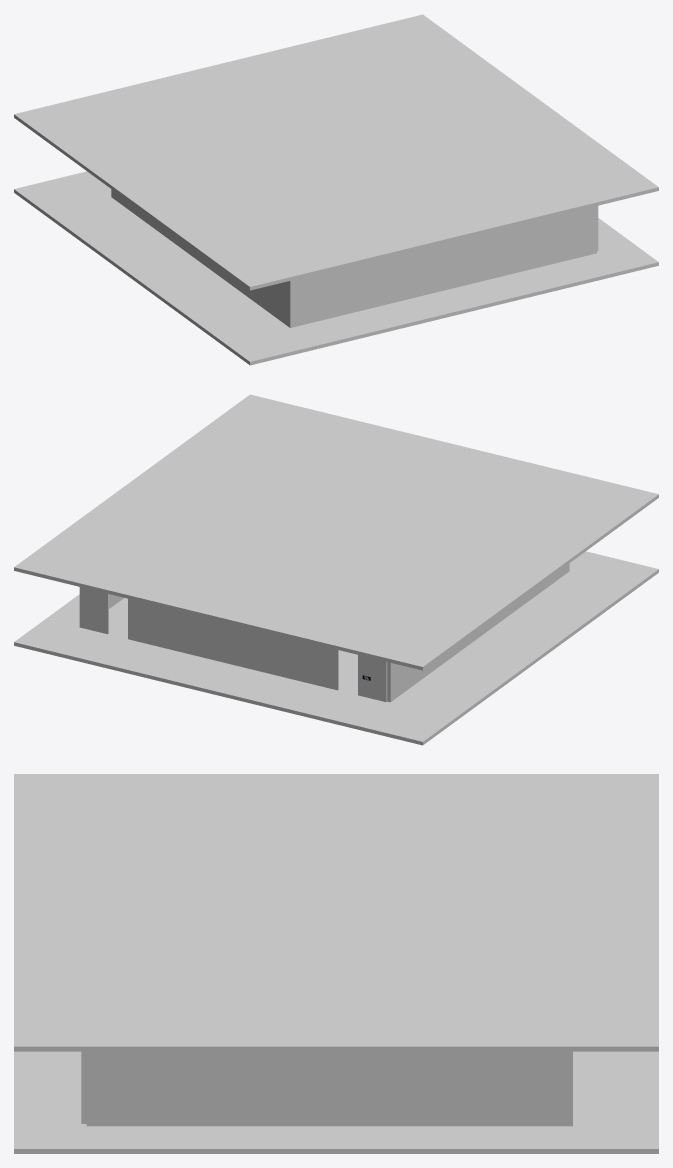
The model's file is LectureHall.fbx.
The picture shows the model from 3 angles, top to bottom: view 1: azimuth 30°, elevation 25°; view 2: azimuth 150°, elevation 25°; view 3: azimuth 270°, elevation 25°; orthographic projection. The views are drawn at different scales.
Visible parts, largest first — view 1: Floor.029; view 2: Floor.029; view 3: Floor.029.
Part boxes in pixels (x1,y1,x2,y2): Floor.029: (14,14,658,365); Floor.029: (14,394,658,745); Floor.029: (14,774,658,1153).
Bounding box in the file's own units: 24 × 24 × 4.4.
